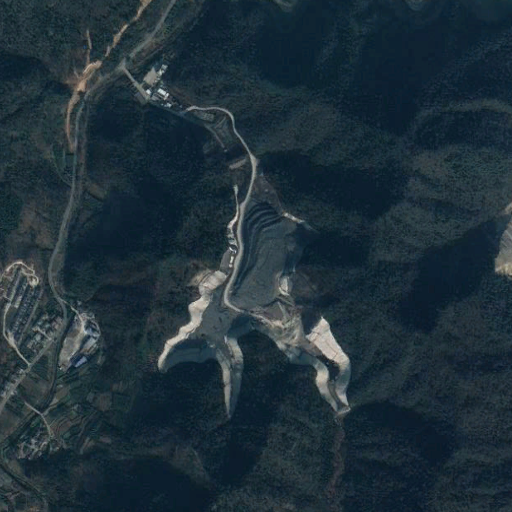lf: (155, 198, 352, 419)
